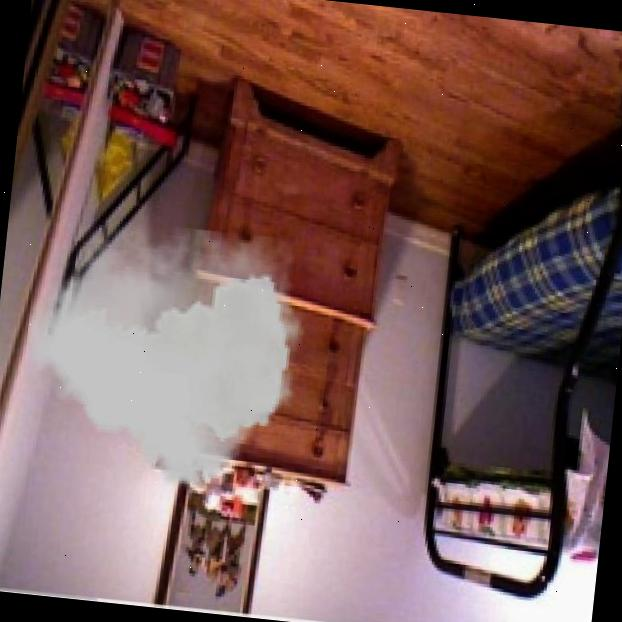smoke: (13, 212, 312, 496)
